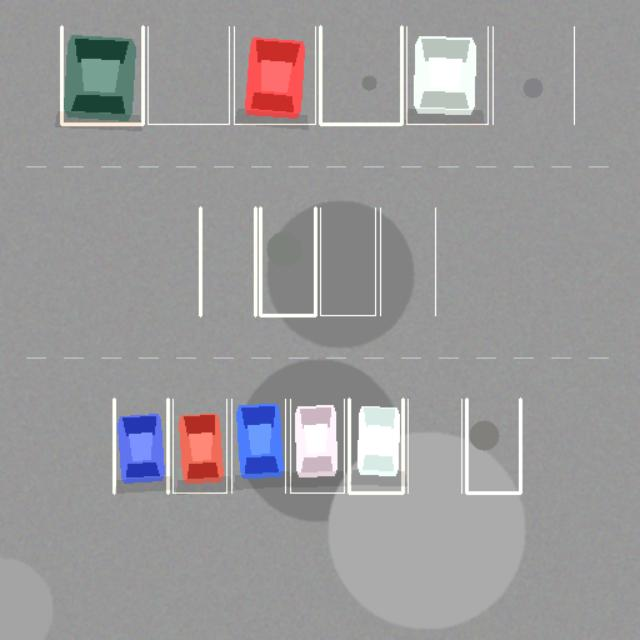space-empty: (147, 26, 229, 124), (320, 26, 401, 124), (493, 26, 574, 124), (200, 207, 255, 315), (260, 207, 315, 315), (320, 207, 375, 315), (380, 207, 435, 315), (466, 399, 520, 492), (408, 399, 461, 492)
space-occupied: (61, 26, 143, 124), (234, 26, 315, 124), (406, 26, 487, 124), (114, 399, 168, 492), (172, 399, 226, 492), (231, 399, 285, 492), (290, 399, 344, 492), (349, 399, 402, 492)
